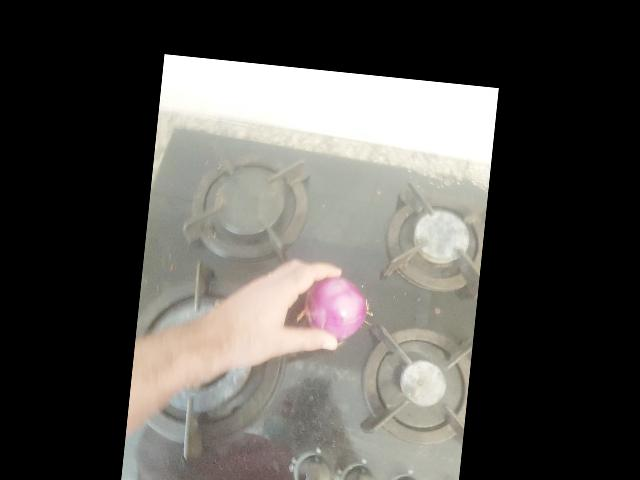onion: (348, 189, 431, 262)
